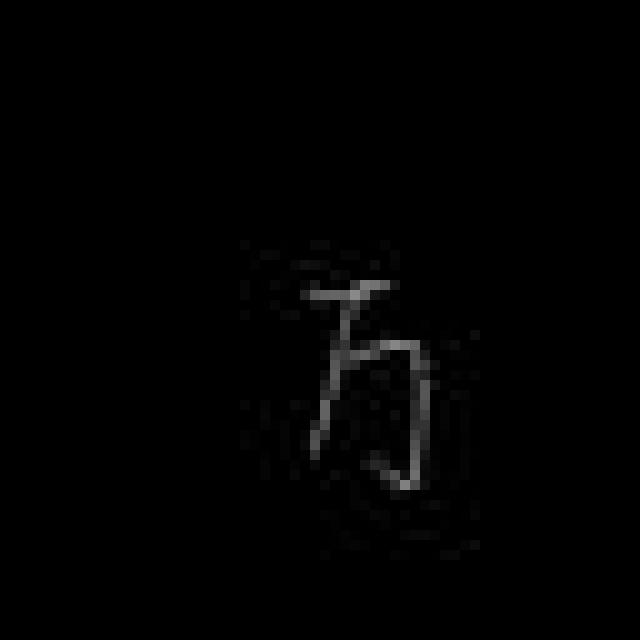10000 -a ten thousand-: (280, 259, 442, 503)
